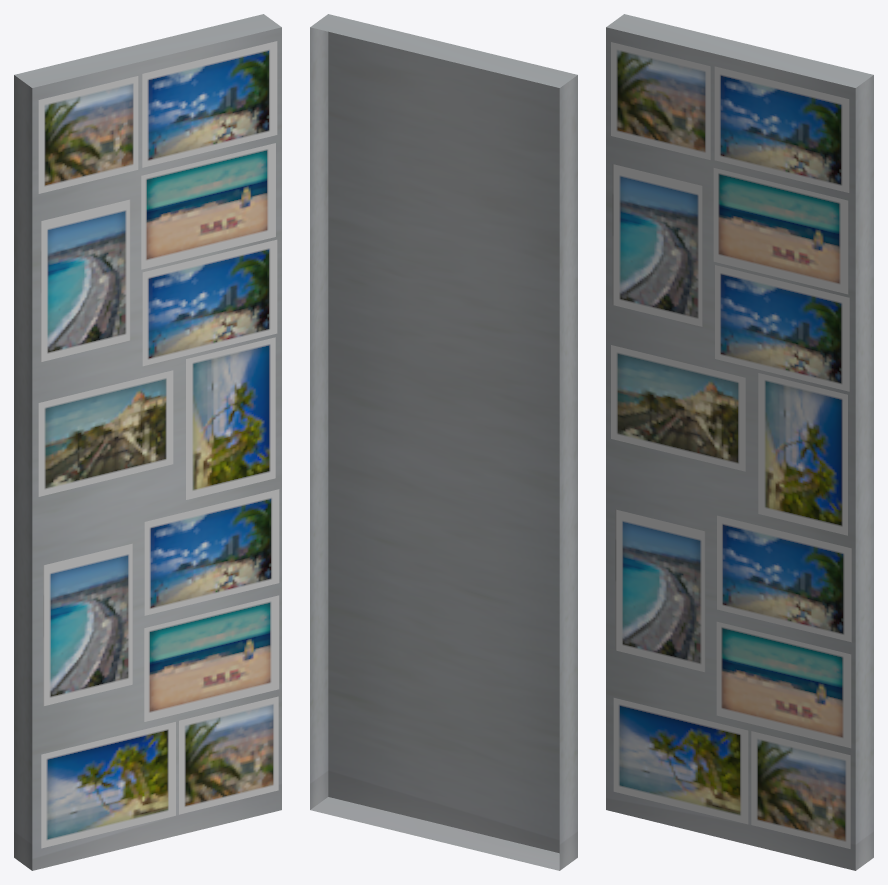
File: Postcard_Rack_02.fbx
3 renders of one model, left to right at view 1: azimuth 30°, elevation 25°; view 2: azimuth 150°, elevation 25°; view 3: azimuth 330°, elevation 25°, orthographic.
Parts seen in each view (by area): view 1: Postcard_Rack_02; view 2: Postcard_Rack_02; view 3: Postcard_Rack_02.
Boxes of the visible parts, x1=… form: Postcard_Rack_02: x1=14, y1=14, x2=281, y2=870; Postcard_Rack_02: x1=310, y1=14, x2=577, y2=870; Postcard_Rack_02: x1=606, y1=14, x2=873, y2=870.
Bounding box in the file's own units: 0.1074 × 0.3219 × 0.0141.
